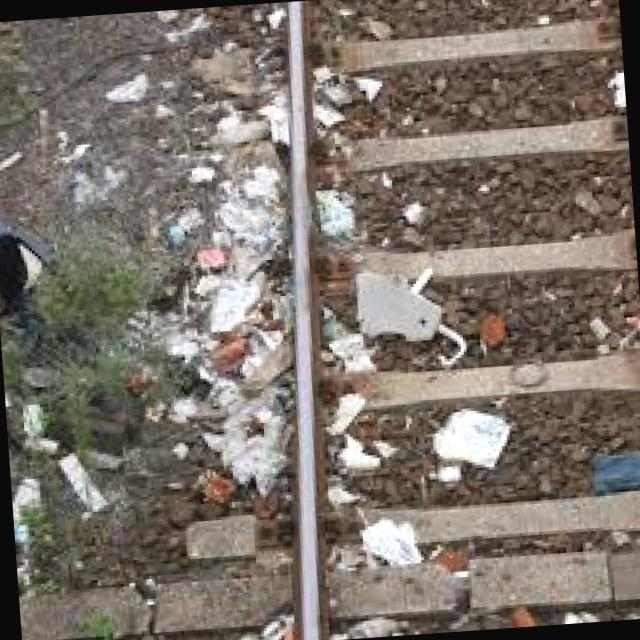garbage: (103, 10, 497, 578)
